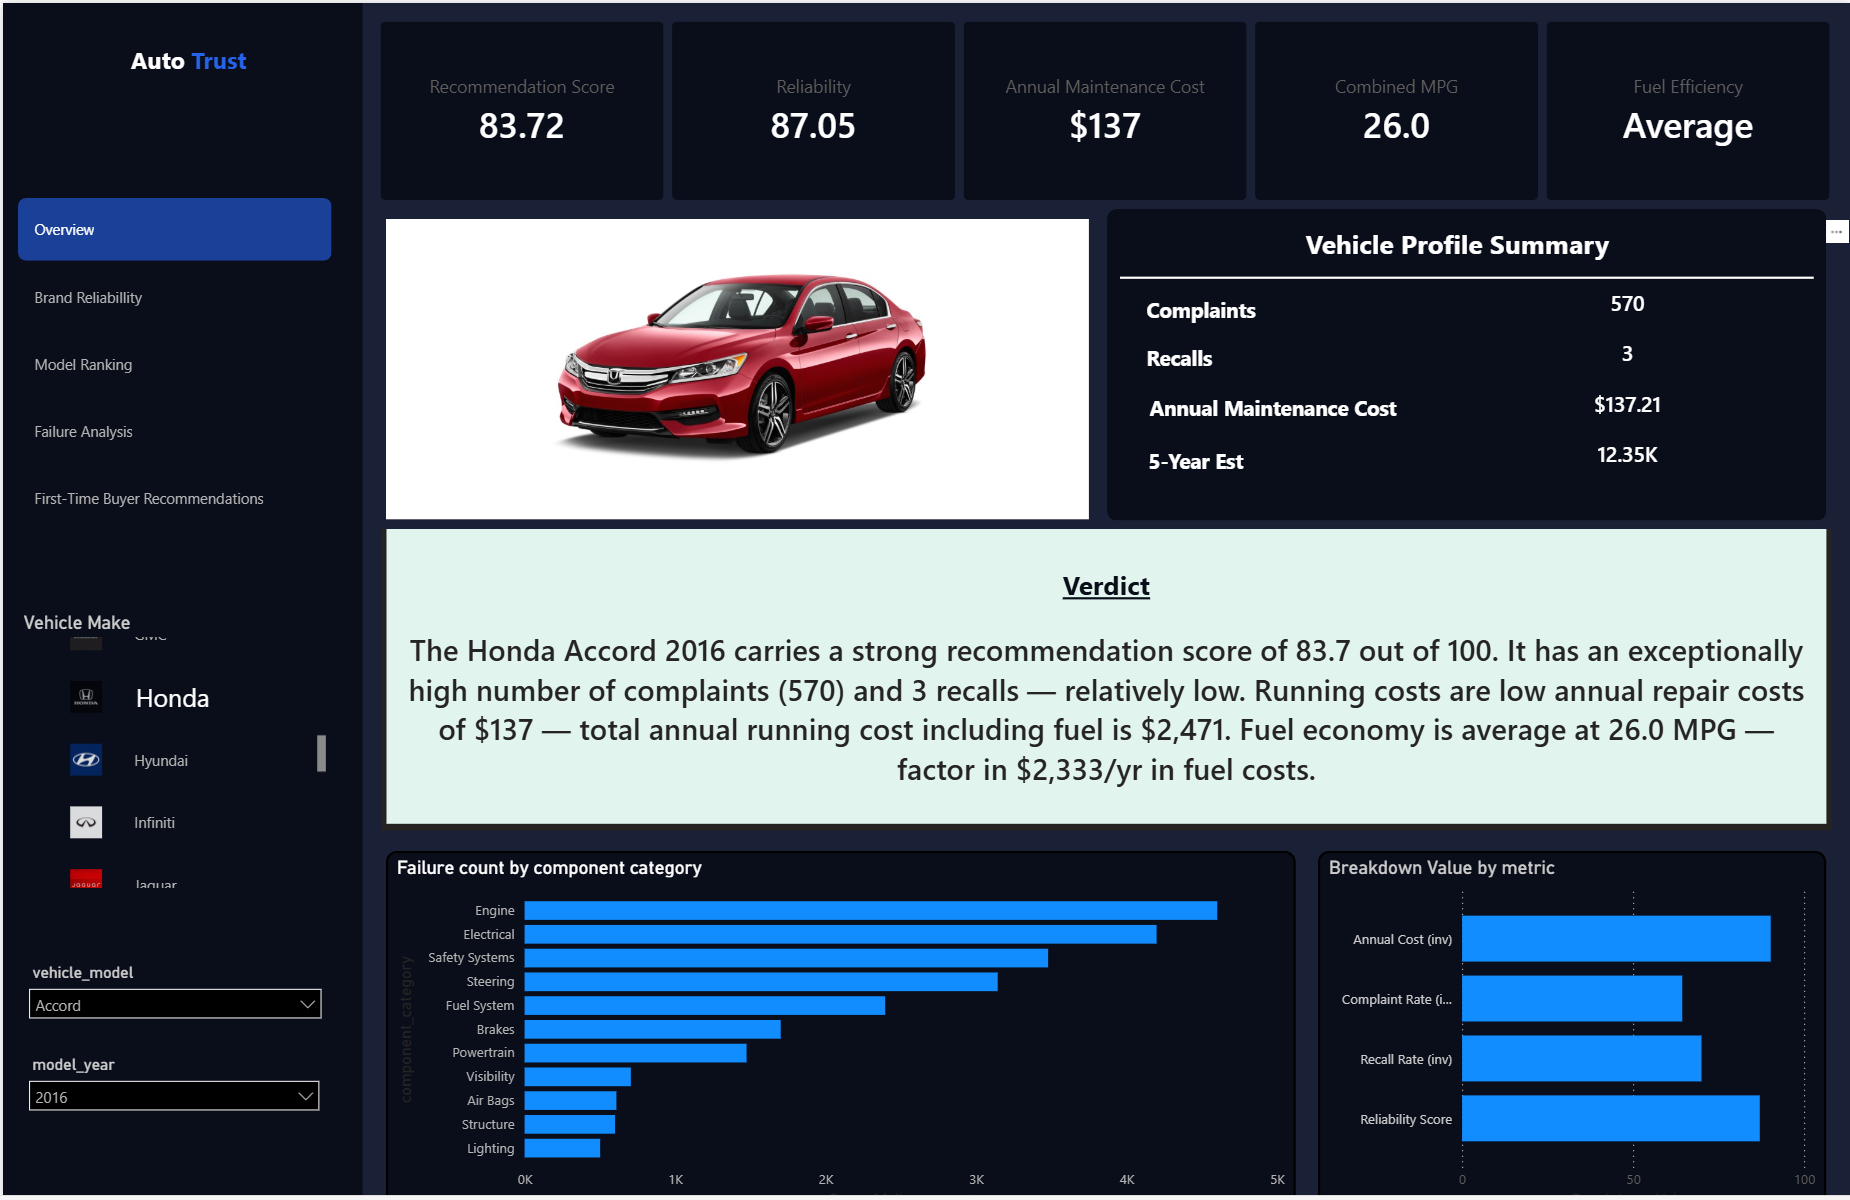

The dashboard page shown, as its layout file describes it:
{"tool":"powerbi","page":{"name":"Overview","canvas":[1580,1280],"ordinal":0},"visuals":[{"type":"cardVisual","fields":{"Data":["gold_fact_vehicle_reliability.Profile Rec Score","gold_fact_vehicle_reliability.Profile Reliability Score","gold_fact_vehicle_reliability.Profile Annual Cost"]},"box":[327.5,0,1253,196.5],"z":0},{"type":"shape","box":[0,0.3,327.5,1280.6],"z":0,"group":"g2"},{"type":"pageNavigator","box":[13.8,177.8,286.1,301.6],"z":1000,"group":"g2"},{"type":"shape","box":[911.8,196.5,653.6,341.9],"z":1000,"group":"g1"},{"type":"clusteredBarChart","title":"Failure count by component category","fields":{"Category":["gold_dim_failure_category.component_category"],"Y":["Sum(gold_dim_failure_category.failure_count)"]},"box":[348.2,868.7,1218.5,391.2],"z":1000},{"type":"barChart","fields":{"Category":["Profile Axis.metric"],"Y":["gold_fact_vehicle_reliability.Breakdown Value"]},"box":[987.6,553.3,577.4,296.4],"z":2000},{"type":"advancedSlicerVisual","fields":{"Values":["silver_logos.vehicle_make"]},"box":[13.8,553.6,286.1,255.1],"z":2000,"group":"g2"},{"type":"cardVisual","fields":{"Data":["gold_fact_vehicle_reliability.Profile Complaint Count","gold_fact_vehicle_reliability.Profile Recall Count","gold_fact_vehicle_reliability.Profile Annual Cost","gold_fact_vehicle_reliability.Profile 5 Year Cost"]},"box":[1205.7,253.3,359.7,254.1],"z":3000,"group":"g1"},{"type":"cardVisual","fields":{"Data":["gold_fact_vehicle_reliability.Profile Verdict"]},"box":[348.2,553.3,623.9,296.4],"z":3000},{"type":"slicer","fields":{"Values":["gold_fact_vehicle_reliability.vehicle_model"]},"box":[13.8,869,286.1,58.6],"z":3000,"group":"g2"},{"type":"simpleImageEBC4593F96F1425FB3D84C5BF02B5075","fields":{"imageURL":["gold_dim_vehicle.url"]},"box":[348.2,196.5,546.4,341.3],"z":4000},{"type":"slicer","fields":{"Values":["gold_fact_vehicle_reliability.model_year"]},"box":[15.5,1006.8,284.4,58.6],"z":4000,"group":"g2"},{"type":"group","id":"g1","title":"Group 1","box":[911.8,196.5,653.2,341.3],"z":5000},{"type":"textbox","box":[942.4,285.7,235.1,52.7],"z":5000,"group":"g1"},{"type":"group","id":"g2","title":"Group 2","box":[0,0.3,327.5,1280.6],"z":6000},{"type":"textbox","box":[25.9,31,234.4,67.2],"z":7000},{"type":"textbox","box":[942.4,338.4,237.5,52.7],"z":7000,"group":"g1"},{"type":"textbox","box":[944.7,391.1,235.1,52.7],"z":9000,"group":"g1"},{"type":"textbox","box":[944.7,450.6,235.1,56.8],"z":11000,"group":"g1"},{"type":"textbox","box":[988.1,209,484.3,55.2],"z":13000,"group":"g1"},{"type":"shape","box":[923.3,242,630.3,60.8],"z":14000,"group":"g1"}]}

Visuals, with their boxes on the page's 1580x1280 design canvas (x1, y1, x2, y2). These are canvas units, not pixel positions in the 1850x1200 screenshot, which may show the page scaled, cropped or inside an application window:
cardVisual - gold_fact_vehicle_reliability.Profile Rec Score x gold_fact_vehicle_reliability.Profile Reliability Score: {"x1": 328, "y1": 0, "x2": 1580, "y2": 196}
shape: {"x1": 0, "y1": 0, "x2": 328, "y2": 1281}
pageNavigator: {"x1": 14, "y1": 178, "x2": 300, "y2": 479}
shape: {"x1": 912, "y1": 196, "x2": 1565, "y2": 538}
"Failure count by component category" clusteredBarChart: {"x1": 348, "y1": 869, "x2": 1567, "y2": 1260}
barChart - Profile Axis.metric x gold_fact_vehicle_reliability.Breakdown Value: {"x1": 988, "y1": 553, "x2": 1565, "y2": 850}
advancedSlicerVisual - silver_logos.vehicle_make: {"x1": 14, "y1": 554, "x2": 300, "y2": 809}
cardVisual - gold_fact_vehicle_reliability.Profile Complaint Count x gold_fact_vehicle_reliability.Profile Recall Count: {"x1": 1206, "y1": 253, "x2": 1565, "y2": 507}
cardVisual - gold_fact_vehicle_reliability.Profile Verdict: {"x1": 348, "y1": 553, "x2": 972, "y2": 850}
slicer - gold_fact_vehicle_reliability.vehicle_model: {"x1": 14, "y1": 869, "x2": 300, "y2": 928}
simpleImageEBC4593F96F1425FB3D84C5BF02B5075 - gold_dim_vehicle.url: {"x1": 348, "y1": 196, "x2": 895, "y2": 538}
slicer - gold_fact_vehicle_reliability.model_year: {"x1": 16, "y1": 1007, "x2": 300, "y2": 1065}
"Group 1" group: {"x1": 912, "y1": 196, "x2": 1565, "y2": 538}
textbox: {"x1": 942, "y1": 286, "x2": 1178, "y2": 338}
"Group 2" group: {"x1": 0, "y1": 0, "x2": 328, "y2": 1281}
textbox: {"x1": 26, "y1": 31, "x2": 260, "y2": 98}
textbox: {"x1": 942, "y1": 338, "x2": 1180, "y2": 391}
textbox: {"x1": 945, "y1": 391, "x2": 1180, "y2": 444}
textbox: {"x1": 945, "y1": 451, "x2": 1180, "y2": 507}
textbox: {"x1": 988, "y1": 209, "x2": 1472, "y2": 264}
shape: {"x1": 923, "y1": 242, "x2": 1554, "y2": 303}
